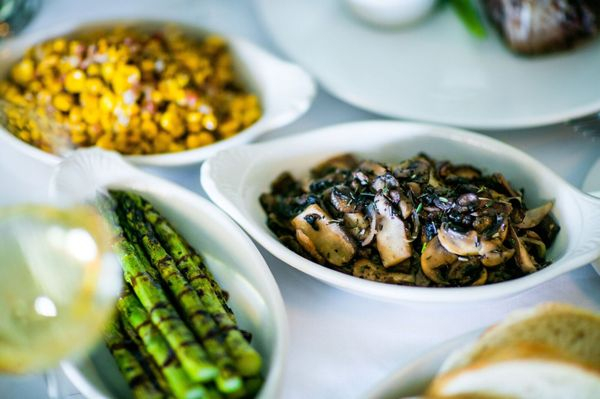sushi: (202, 117, 600, 309), (3, 141, 291, 396), (0, 14, 319, 169), (423, 302, 600, 395)
